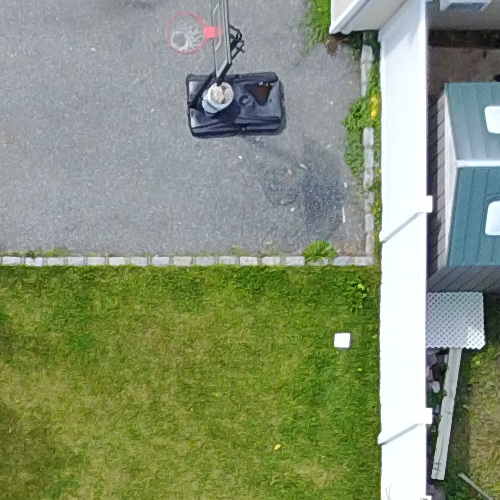basketball: (161, 3, 295, 150)
container: (197, 78, 244, 125)
